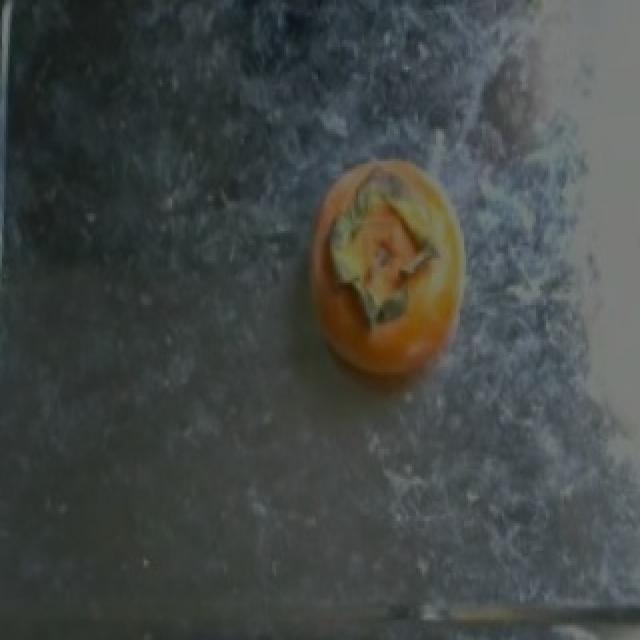Fruit: (284, 136, 488, 410)
